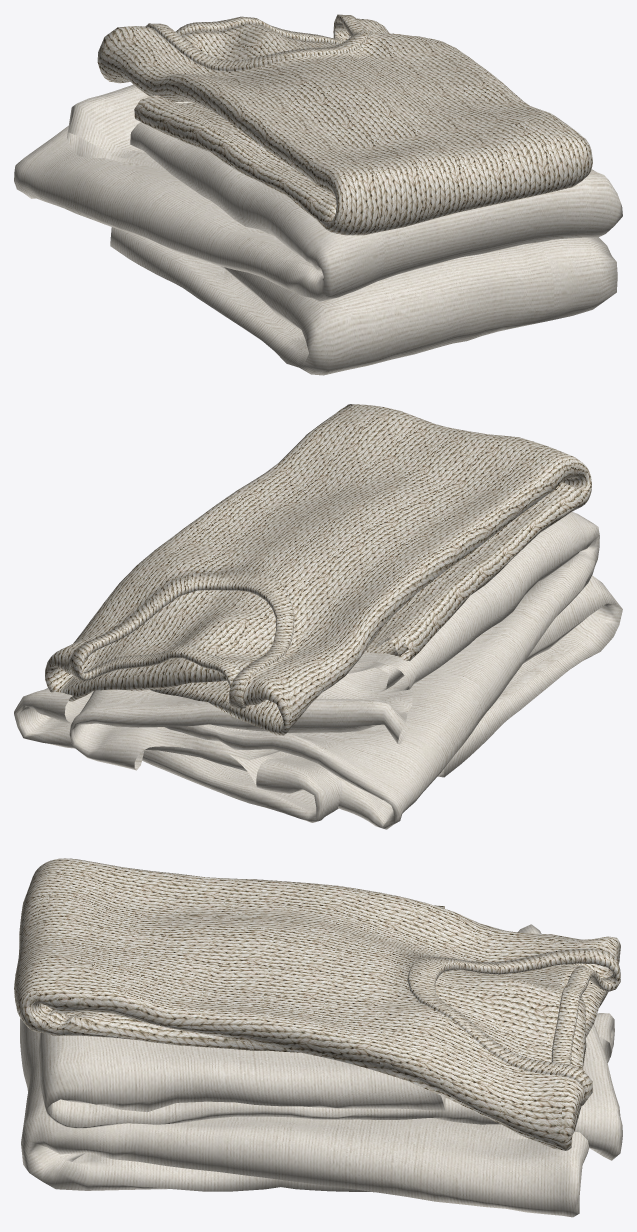
File: addition-stack-right.glb
3 renders of one model, top to bottom at view 1: azimuth 30°, elevation 25°; view 2: azimuth 150°, elevation 25°; view 3: azimuth 270°, elevation 25°, orthographic. The views are drawn at different scales.
Visible parts, largest first — view 1: cloth011, cloth012, cloth013; view 2: cloth011, cloth012, cloth013; view 3: cloth011, cloth013, cloth012.
Boxes of the visible parts, x1,y1,x2,y2 form: cloth011: [97, 14, 592, 235]; cloth012: [14, 84, 622, 301]; cloth013: [110, 227, 617, 375]; cloth011: [45, 404, 591, 735]; cloth012: [69, 512, 599, 829]; cloth013: [14, 575, 622, 822]; cloth011: [14, 858, 620, 1150]; cloth013: [20, 1013, 614, 1217]; cloth012: [38, 924, 622, 1160].
Size of the model in its own units: 0.3193 by 0.1454 by 0.3974.
3 materials, 3 textured.
